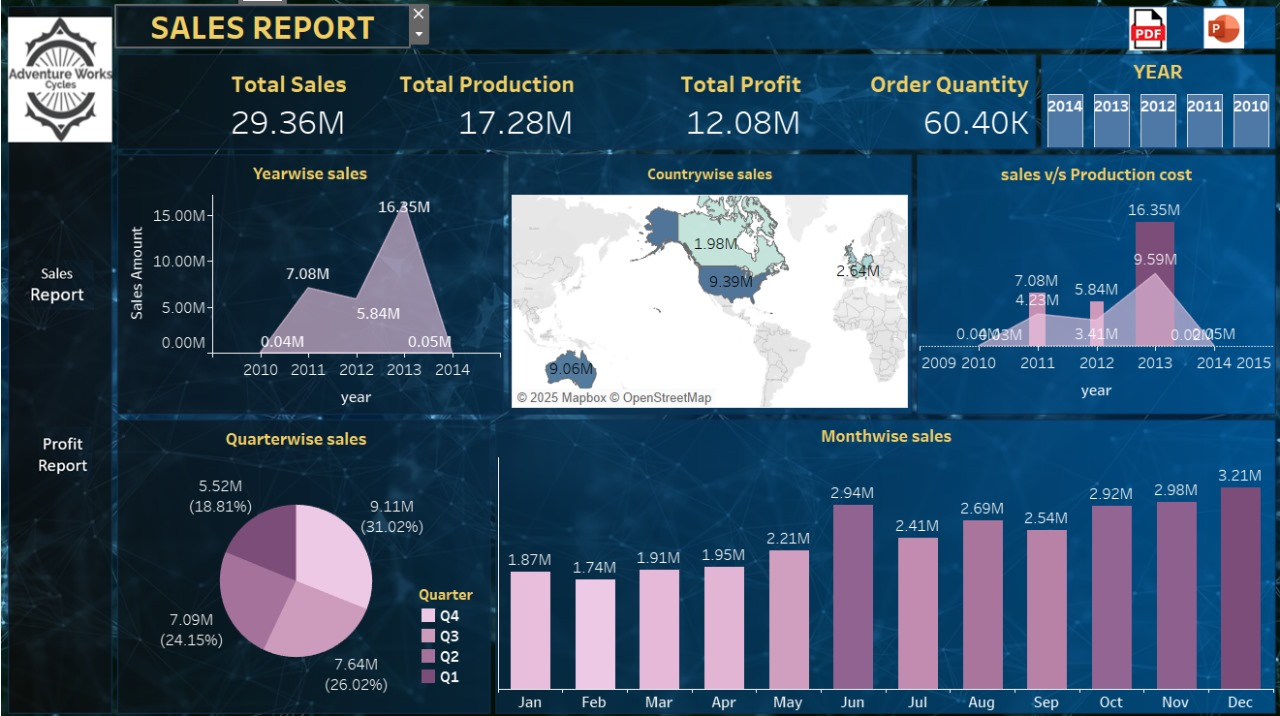

This screenshot's page, from the dashboard's own definition file:
{"tool":"powerbi","page":{"name":"Sales Report","canvas":[1280,720],"ordinal":1},"visuals":[{"type":"barChart","title":"yearwise sales","fields":{"Category":["combined_sales.Year"],"Y":["Sum(combined_sales.total sales amount)"]},"box":[0,178.5,398.6,260.5],"z":0},{"type":"donutChart","title":"Quarter wise sales","fields":{"Category":["combined_sales.Quarter"],"Y":["Sum(combined_sales.total sales amount)"]},"box":[413.3,179.8,419.4,259.2],"z":1000},{"type":"lineChart","title":"month wise sales","fields":{"Category":["combined_sales.short month"],"Y":["Sum(combined_sales.total sales amount)"]},"box":[0,454.8,733.5,247.3],"z":2000},{"type":"lineClusteredColumnComboChart","title":"year wise sales and production amount","fields":{"Y":["Sum(combined_sales.total sales amount)"],"Y2":["Sum(combined_sales.total Production cost)"],"Category":["combined_sales.Year"]},"box":[848.6,179.8,419.4,259.2],"z":3000},{"type":"card","title":"Total Sales","fields":{"Values":["Sum(combined_sales.total sales amount)"]},"box":[136.3,59.1,249.7,103.8],"z":4000},{"type":"card","title":"Total Profit","fields":{"Values":["Sum(combined_sales.profit)"]},"box":[398.1,59.1,252.1,102.5],"z":5000},{"type":"card","title":"Order Quantity","fields":{"Values":["Sum(combined_sales.OrderQuantity)"]},"box":[664.7,61.5,213.5,101.3],"z":6000},{"type":"textbox","title":"SALES REPORT","box":[135.1,0,1137.7,37.4],"z":7000},{"type":"image","box":[0,0,118.6,162.6],"z":8000},{"type":"card","title":"Totoal Production","fields":{"Values":["Sum(combined_sales.total Production cost)"]},"box":[890.4,59.1,277.5,103.8],"z":9000},{"type":"map","fields":{"Category":["DimSalesterritory.SalesTerritoryCountry"]},"box":[741,454.9,527,247],"z":10000},{"type":"shape","box":[1185.9,1.2,86.9,37.4],"z":11000},{"type":"shape","box":[144.8,0,90.5,37.4],"z":12000},{"type":"pivotTable","fields":{"Rows":["combined_sales.Year"]},"box":[1178.7,59.1,89.3,103.8],"z":13000}]}

Visuals, with their boxes on the page's 1280x720 design canvas (x1, y1, x2, y2). These are canvas units, not pixel positions in the 1280x716 screenshot, which may show the page scaled, cropped or inside an application window:
"yearwise sales" barChart: crop(0, 178, 399, 439)
"Quarter wise sales" donutChart: crop(413, 180, 833, 439)
"month wise sales" lineChart: crop(0, 455, 734, 702)
"year wise sales and production amount" lineClusteredColumnComboChart: crop(849, 180, 1268, 439)
"Total Sales" card: crop(136, 59, 386, 163)
"Total Profit" card: crop(398, 59, 650, 162)
"Order Quantity" card: crop(665, 62, 878, 163)
"SALES REPORT" textbox: crop(135, 0, 1273, 37)
image: crop(0, 0, 119, 163)
"Totoal Production" card: crop(890, 59, 1168, 163)
map - DimSalesterritory.SalesTerritoryCountry: crop(741, 455, 1268, 702)
shape: crop(1186, 1, 1273, 39)
shape: crop(145, 0, 235, 37)
pivotTable - combined_sales.Year: crop(1179, 59, 1268, 163)
